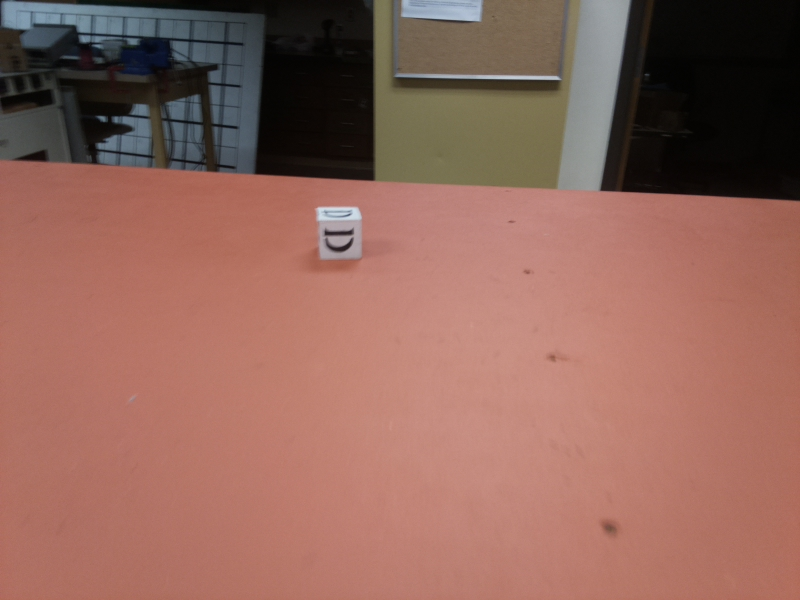blockD: (312, 205, 366, 263)
